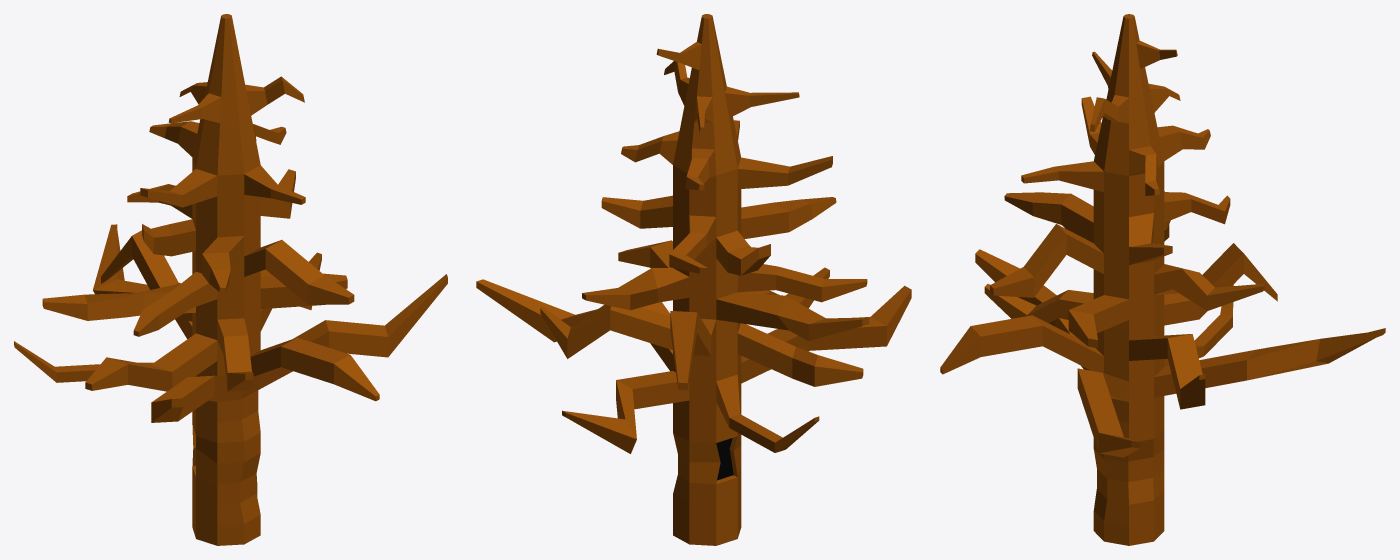
Rendered from oldtree2.fbx.
3 views of the same model, side by side, from view 1: azimuth 30°, elevation 25°; view 2: azimuth 150°, elevation 25°; view 3: azimuth 270°, elevation 25° (orthographic).
Parts seen in each view (by area): view 1: Cylinder; view 2: Cylinder; view 3: Cylinder.
Boxes of the visible parts, <box> form: Cylinder: <box>14,14,447,545</box>; Cylinder: <box>476,14,911,545</box>; Cylinder: <box>940,14,1385,545</box>.
Size of the model in its own units: 1066 by 1318 by 1034.
